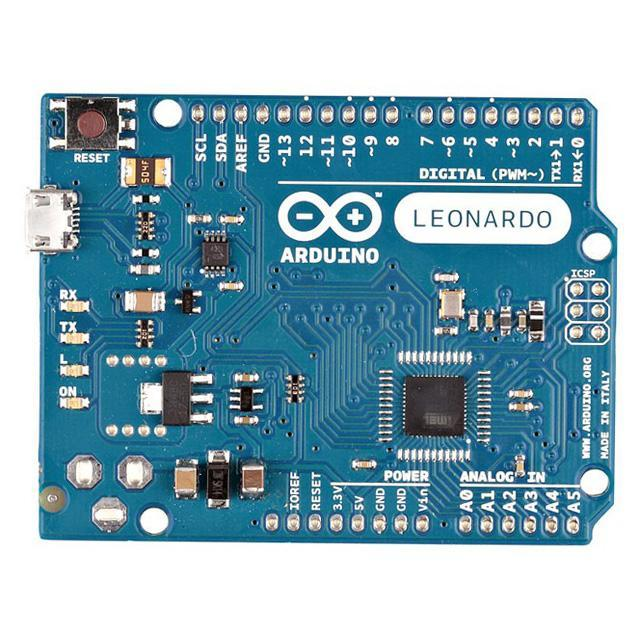Arduino-leonardo: (28, 94, 617, 545)
